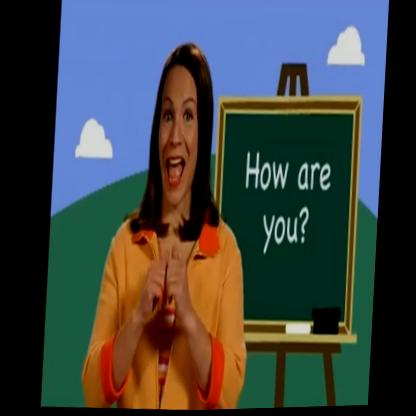HowAreYou: (108, 232, 218, 368)
